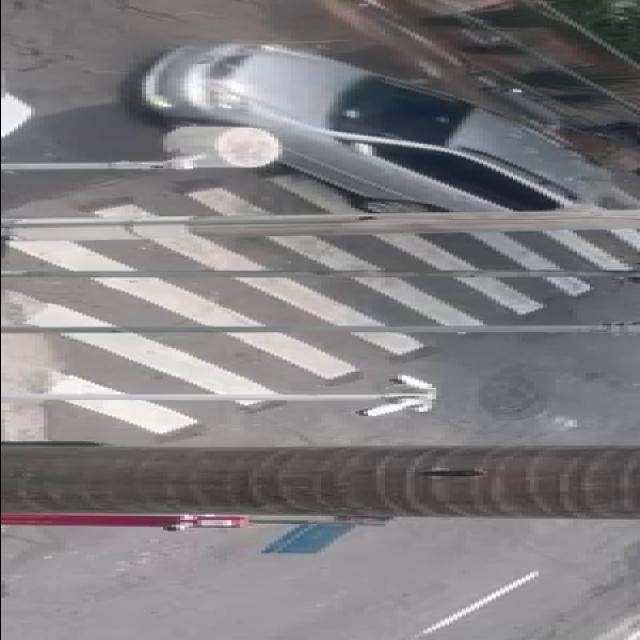car: (138, 46, 576, 238)
